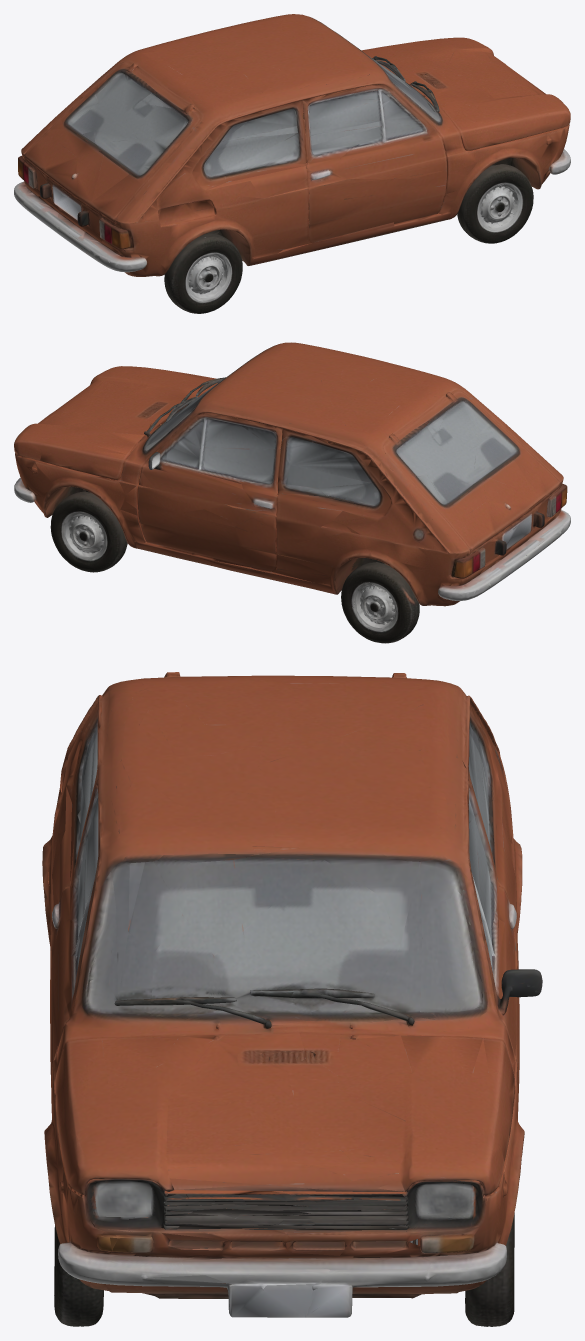
File: jabuti__01a16982.glb
The picture shows the model from 3 angles, top to bottom: view 1: azimuth 30°, elevation 25°; view 2: azimuth 150°, elevation 25°; view 3: azimuth 270°, elevation 25°; orthographic projection. The views are drawn at different scales.
Parts seen in each view (by area): view 1: jabuti__01a16982; view 2: jabuti__01a16982; view 3: jabuti__01a16982.
Part boxes in pixels (bbox=[...]): jabuti__01a16982: bbox=[14, 14, 570, 313]; jabuti__01a16982: bbox=[14, 342, 570, 643]; jabuti__01a16982: bbox=[42, 672, 542, 1326].
Bounding box in the file's own units: 3.62 × 1.42 × 1.67.
1 material, 1 textured.
